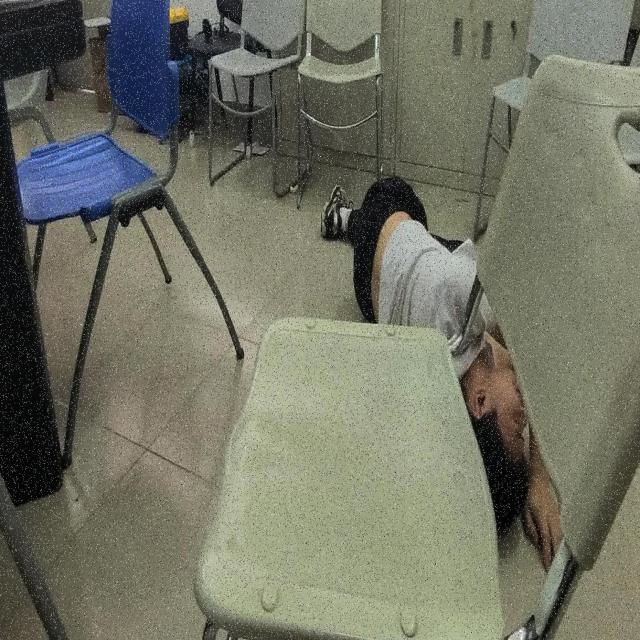fall: (323, 165, 570, 566)
